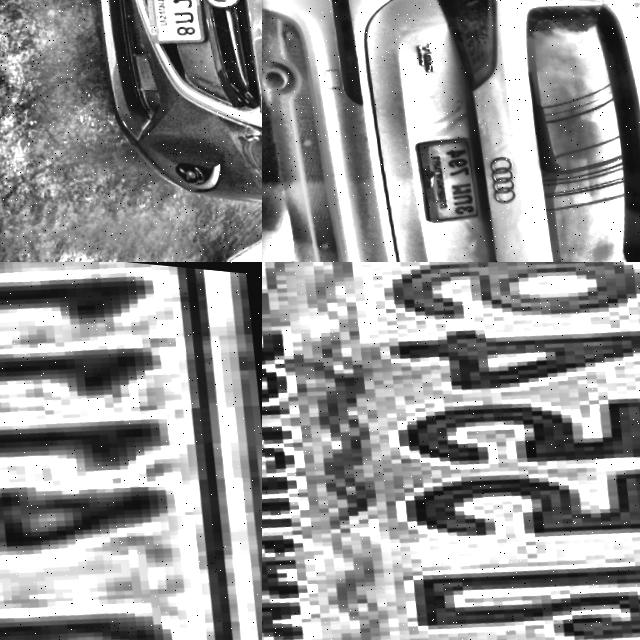license-plate: (262, 262, 640, 640), (0, 262, 262, 640), (411, 123, 501, 224), (134, 0, 209, 42)
